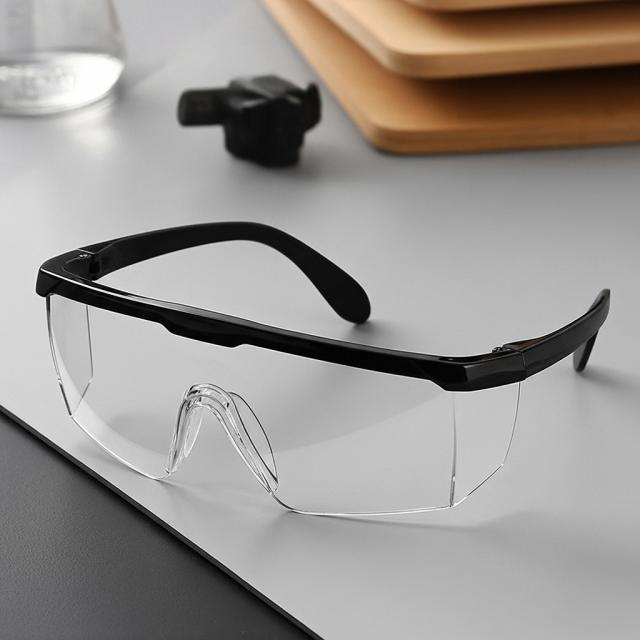oculos-epi: (36, 222, 609, 514)
